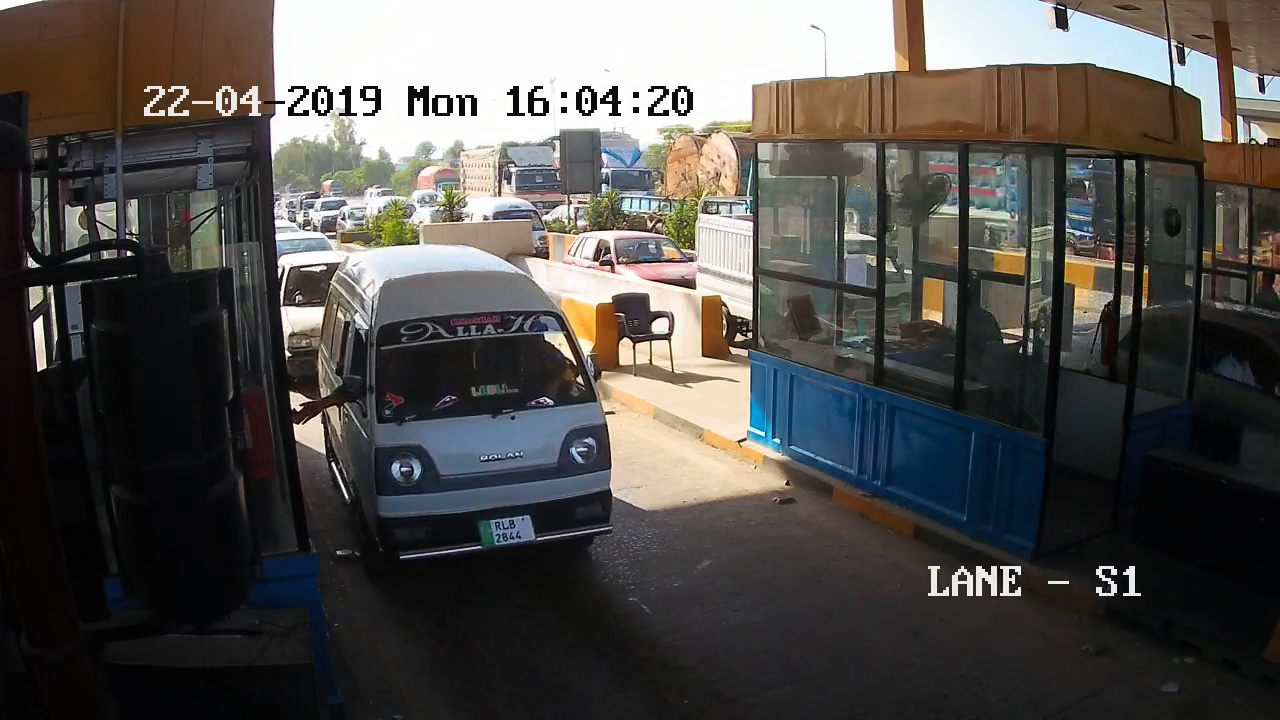Number Plate (Car): (477, 516, 539, 544)
